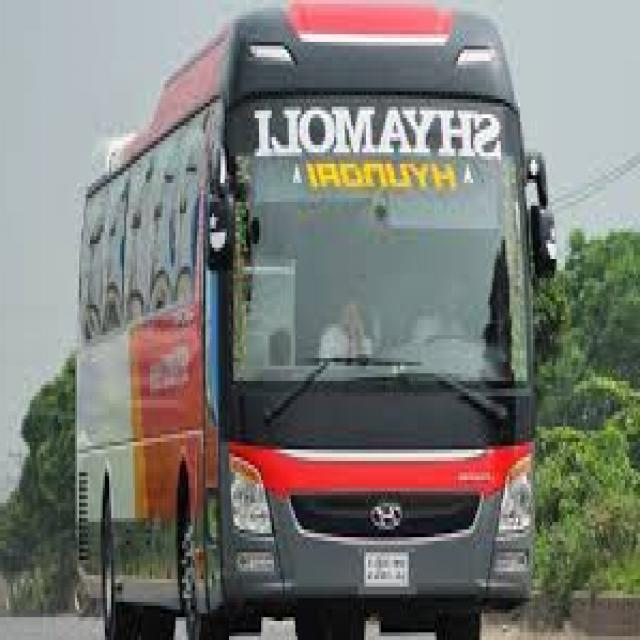Bus: (40, 1, 581, 640)
